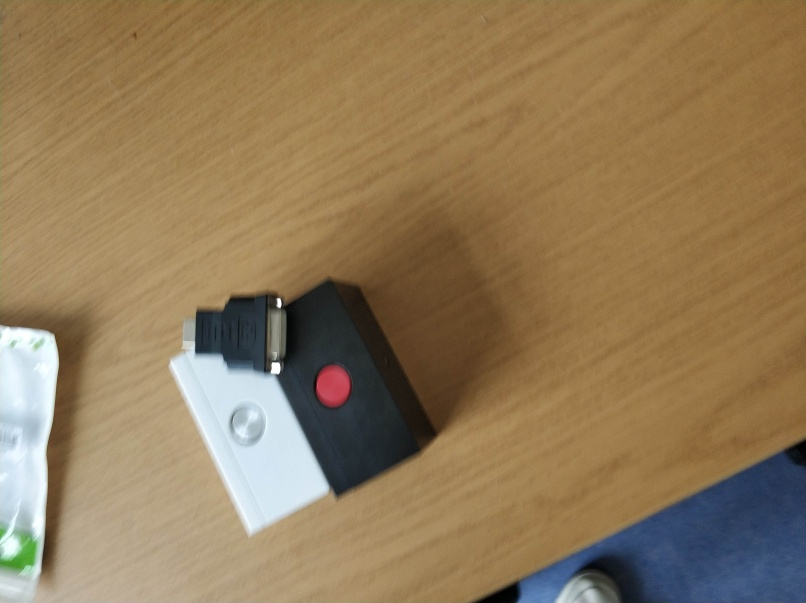black+black+red: (280, 277, 440, 505)
white+white+silver: (165, 346, 330, 540)
